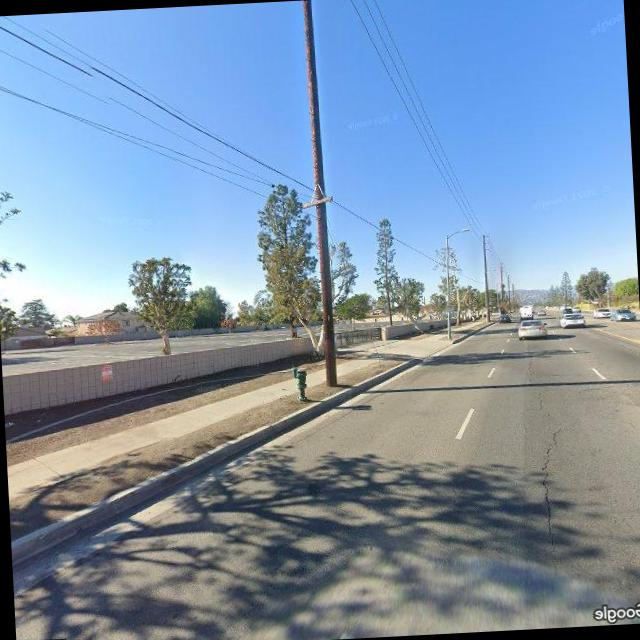pothole: (531, 350, 569, 568)
